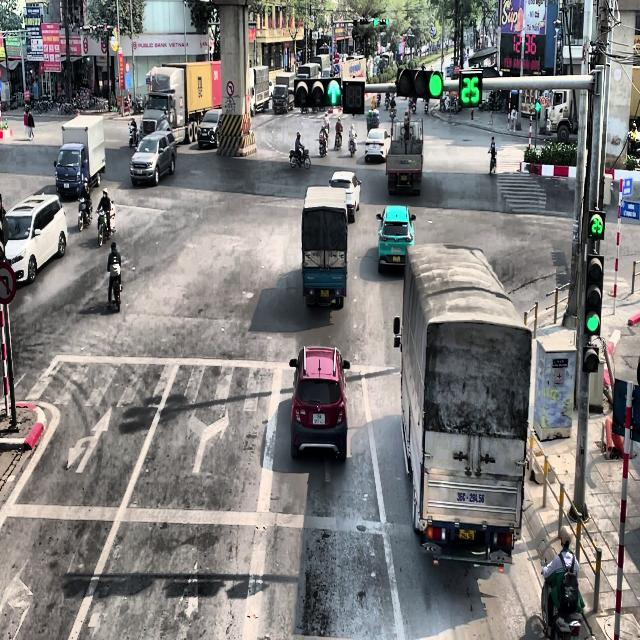lisence_plate: (457, 527, 476, 542), (312, 411, 326, 426), (318, 288, 330, 298), (392, 254, 401, 263), (400, 174, 408, 182), (371, 144, 377, 150)
